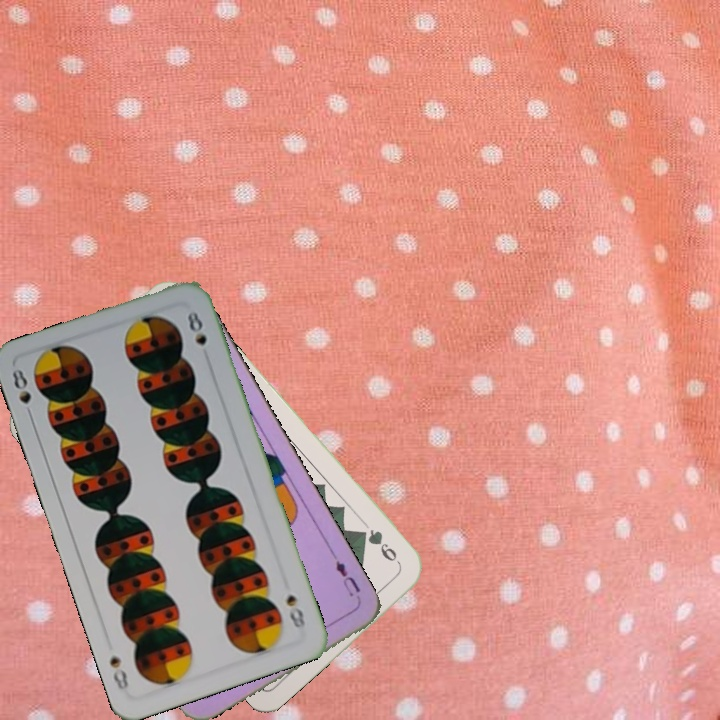EU: (331, 556, 364, 605)
G9: (355, 524, 404, 568)
S8: (8, 364, 36, 422), (280, 590, 308, 634)
